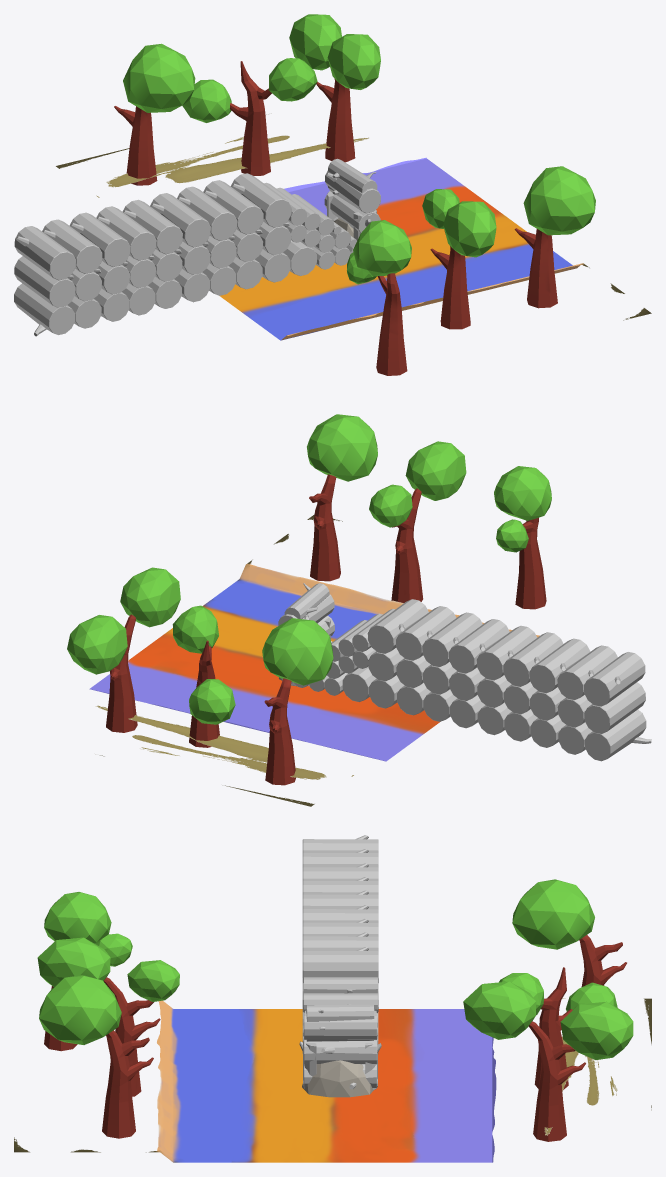
File: GrosserHaufen2.fbx
The picture shows the model from 3 angles, top to bottom: view 1: azimuth 30°, elevation 25°; view 2: azimuth 150°, elevation 25°; view 3: azimuth 270°, elevation 25°; orthographic projection. The views are drawn at different scales.
Visible parts, largest first — view 1: forestPart, holzhaufen, slideFertig, stamm3Fertig, stamm2Fertig; view 2: forestPart, holzhaufen, slideFertig; view 3: forestPart, holzhaufen, steinFertig, stamm2Fertig, slideFertig, stamm3Fertig.
Boxes of the visible parts, left/top/right/bottom form: forestPart: left=56, top=14, right=651, bottom=375; holzhaufen: left=14, top=173, right=356, bottom=336; slideFertig: left=327, top=158, right=377, bottom=240; stamm3Fertig: left=325, top=170, right=380, bottom=213; stamm2Fertig: left=324, top=191, right=380, bottom=233; forestPart: left=67, top=414, right=551, bottom=806; holzhaufen: left=292, top=599, right=651, bottom=761; slideFertig: left=284, top=583, right=330, bottom=686; forestPart: left=14, top=879, right=651, bottom=1162; holzhaufen: left=302, top=835, right=378, bottom=1087; steinFertig: left=302, top=1060, right=373, bottom=1097; stamm2Fertig: left=304, top=1040, right=377, bottom=1089; slideFertig: left=299, top=1003, right=381, bottom=1090; stamm3Fertig: left=304, top=1012, right=377, bottom=1039.
Bounding box in the file's own units: 2696 × 825 × 2937.
